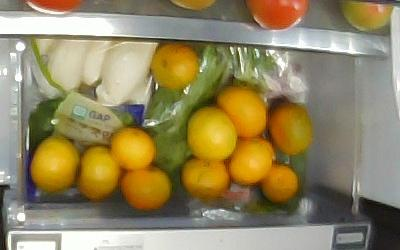tangerine: (187, 104, 237, 160), (217, 85, 266, 138), (30, 136, 79, 188), (269, 101, 313, 155), (228, 138, 274, 185), (150, 44, 198, 88), (79, 146, 119, 198), (181, 157, 229, 199), (120, 167, 170, 207), (111, 127, 155, 170), (260, 164, 298, 202)
